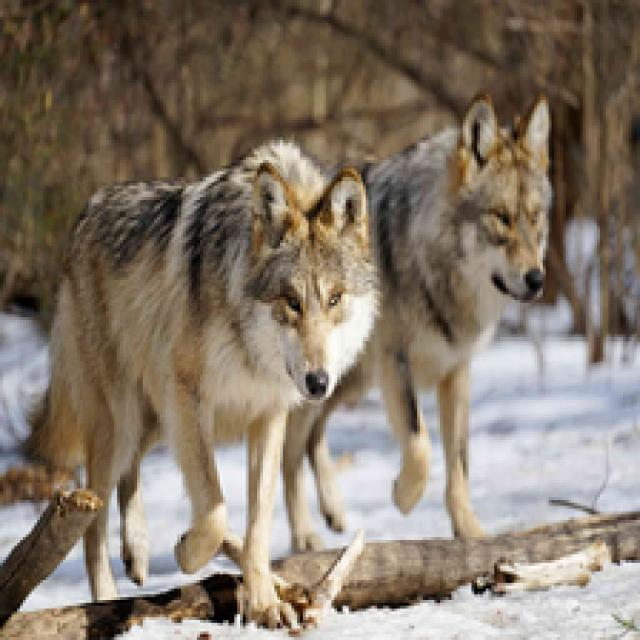wolf: (43, 142, 370, 592), (364, 86, 576, 541)
